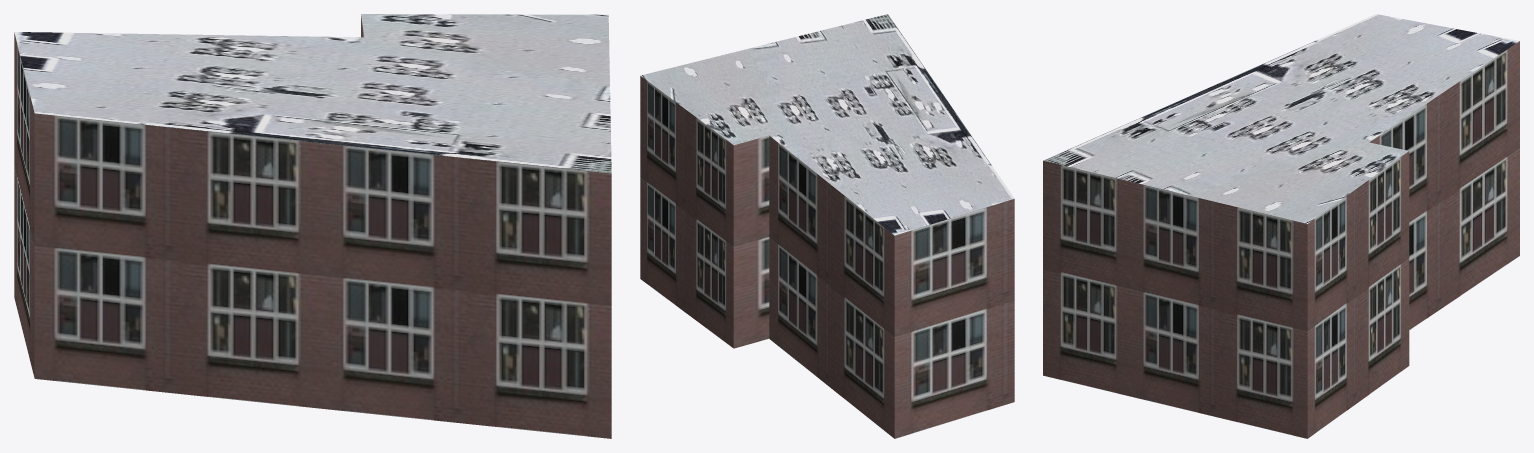
File: ResTex__5177.fbx
3 renders of one model, left to right at view 1: azimuth 30°, elevation 25°; view 2: azimuth 150°, elevation 25°; view 3: azimuth 270°, elevation 25°, orthographic. The views are drawn at different scales.
Parts seen in each view (by area): view 1: CityEngineMaterial_12_m, CityEngineMaterial_m; view 2: CityEngineMaterial_12_m, CityEngineMaterial_m; view 3: CityEngineMaterial_12_m, CityEngineMaterial_m.
Boxes of the visible parts, bbox=[...] form: CityEngineMaterial_12_m: bbox=[14, 16, 611, 438]; CityEngineMaterial_m: bbox=[14, 14, 611, 173]; CityEngineMaterial_12_m: bbox=[640, 76, 1014, 438]; CityEngineMaterial_m: bbox=[640, 14, 1014, 235]; CityEngineMaterial_12_m: bbox=[1043, 41, 1519, 438]; CityEngineMaterial_m: bbox=[1043, 14, 1519, 223].
Size of the model in its own units: 12.57 by 6 by 12.06.
Materials: 2 (2 with a texture image).
